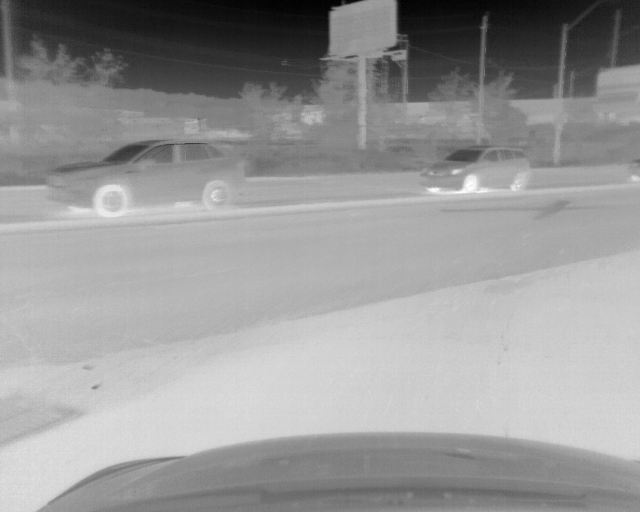car: (45, 140, 244, 217), (418, 145, 529, 194), (624, 155, 640, 182)
